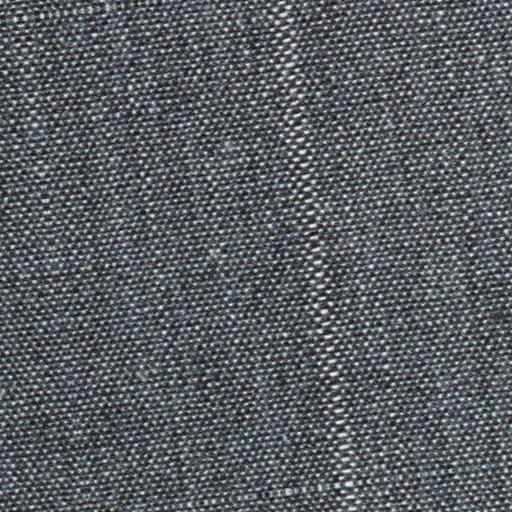slub: (260, 1, 374, 512)
